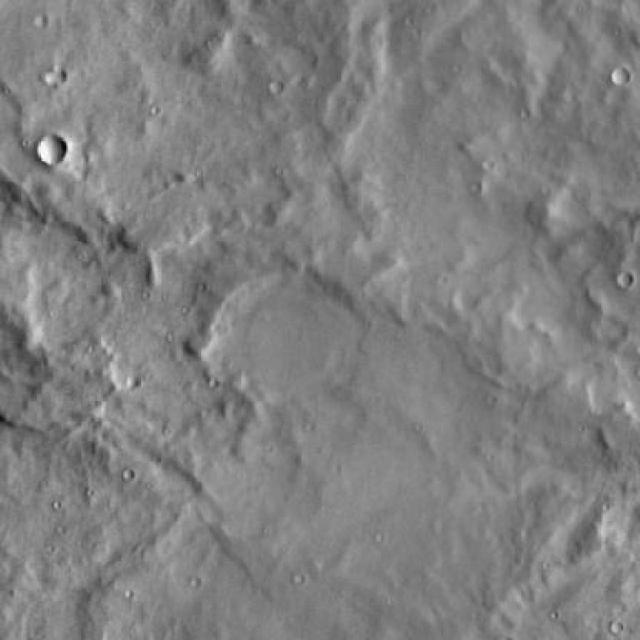crater: (0, 0, 351, 240), (209, 274, 356, 421), (41, 134, 70, 163), (613, 272, 630, 288)
